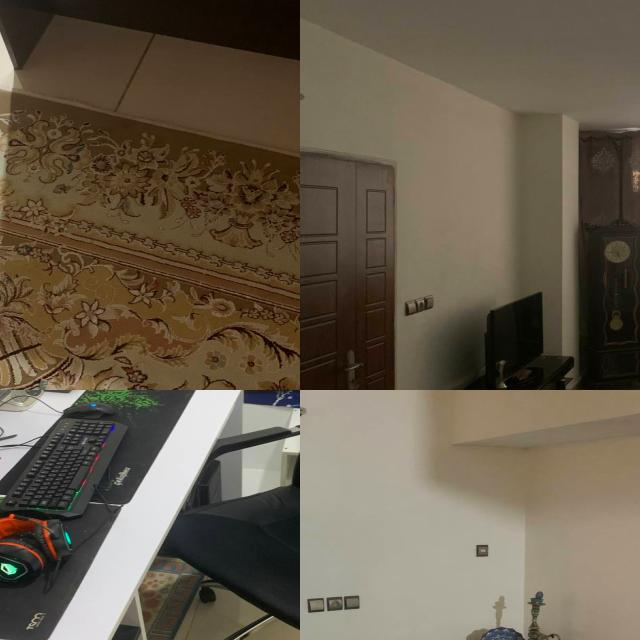Floor: (0, 17, 300, 160)
Wall: (300, 17, 576, 390), (300, 390, 526, 640), (541, 437, 640, 640)
